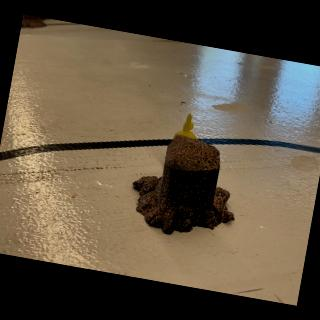teletubby: (174, 114, 196, 139)
